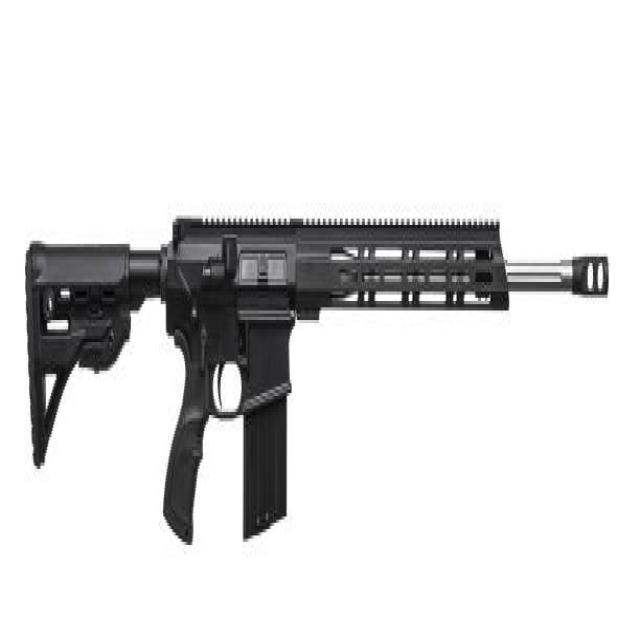rifle: (22, 197, 616, 567)
